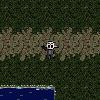Interaction: (0, 80, 61, 95), (50, 94, 61, 100)
Jason: (41, 40, 59, 60)
Slow: (0, 89, 52, 100)
